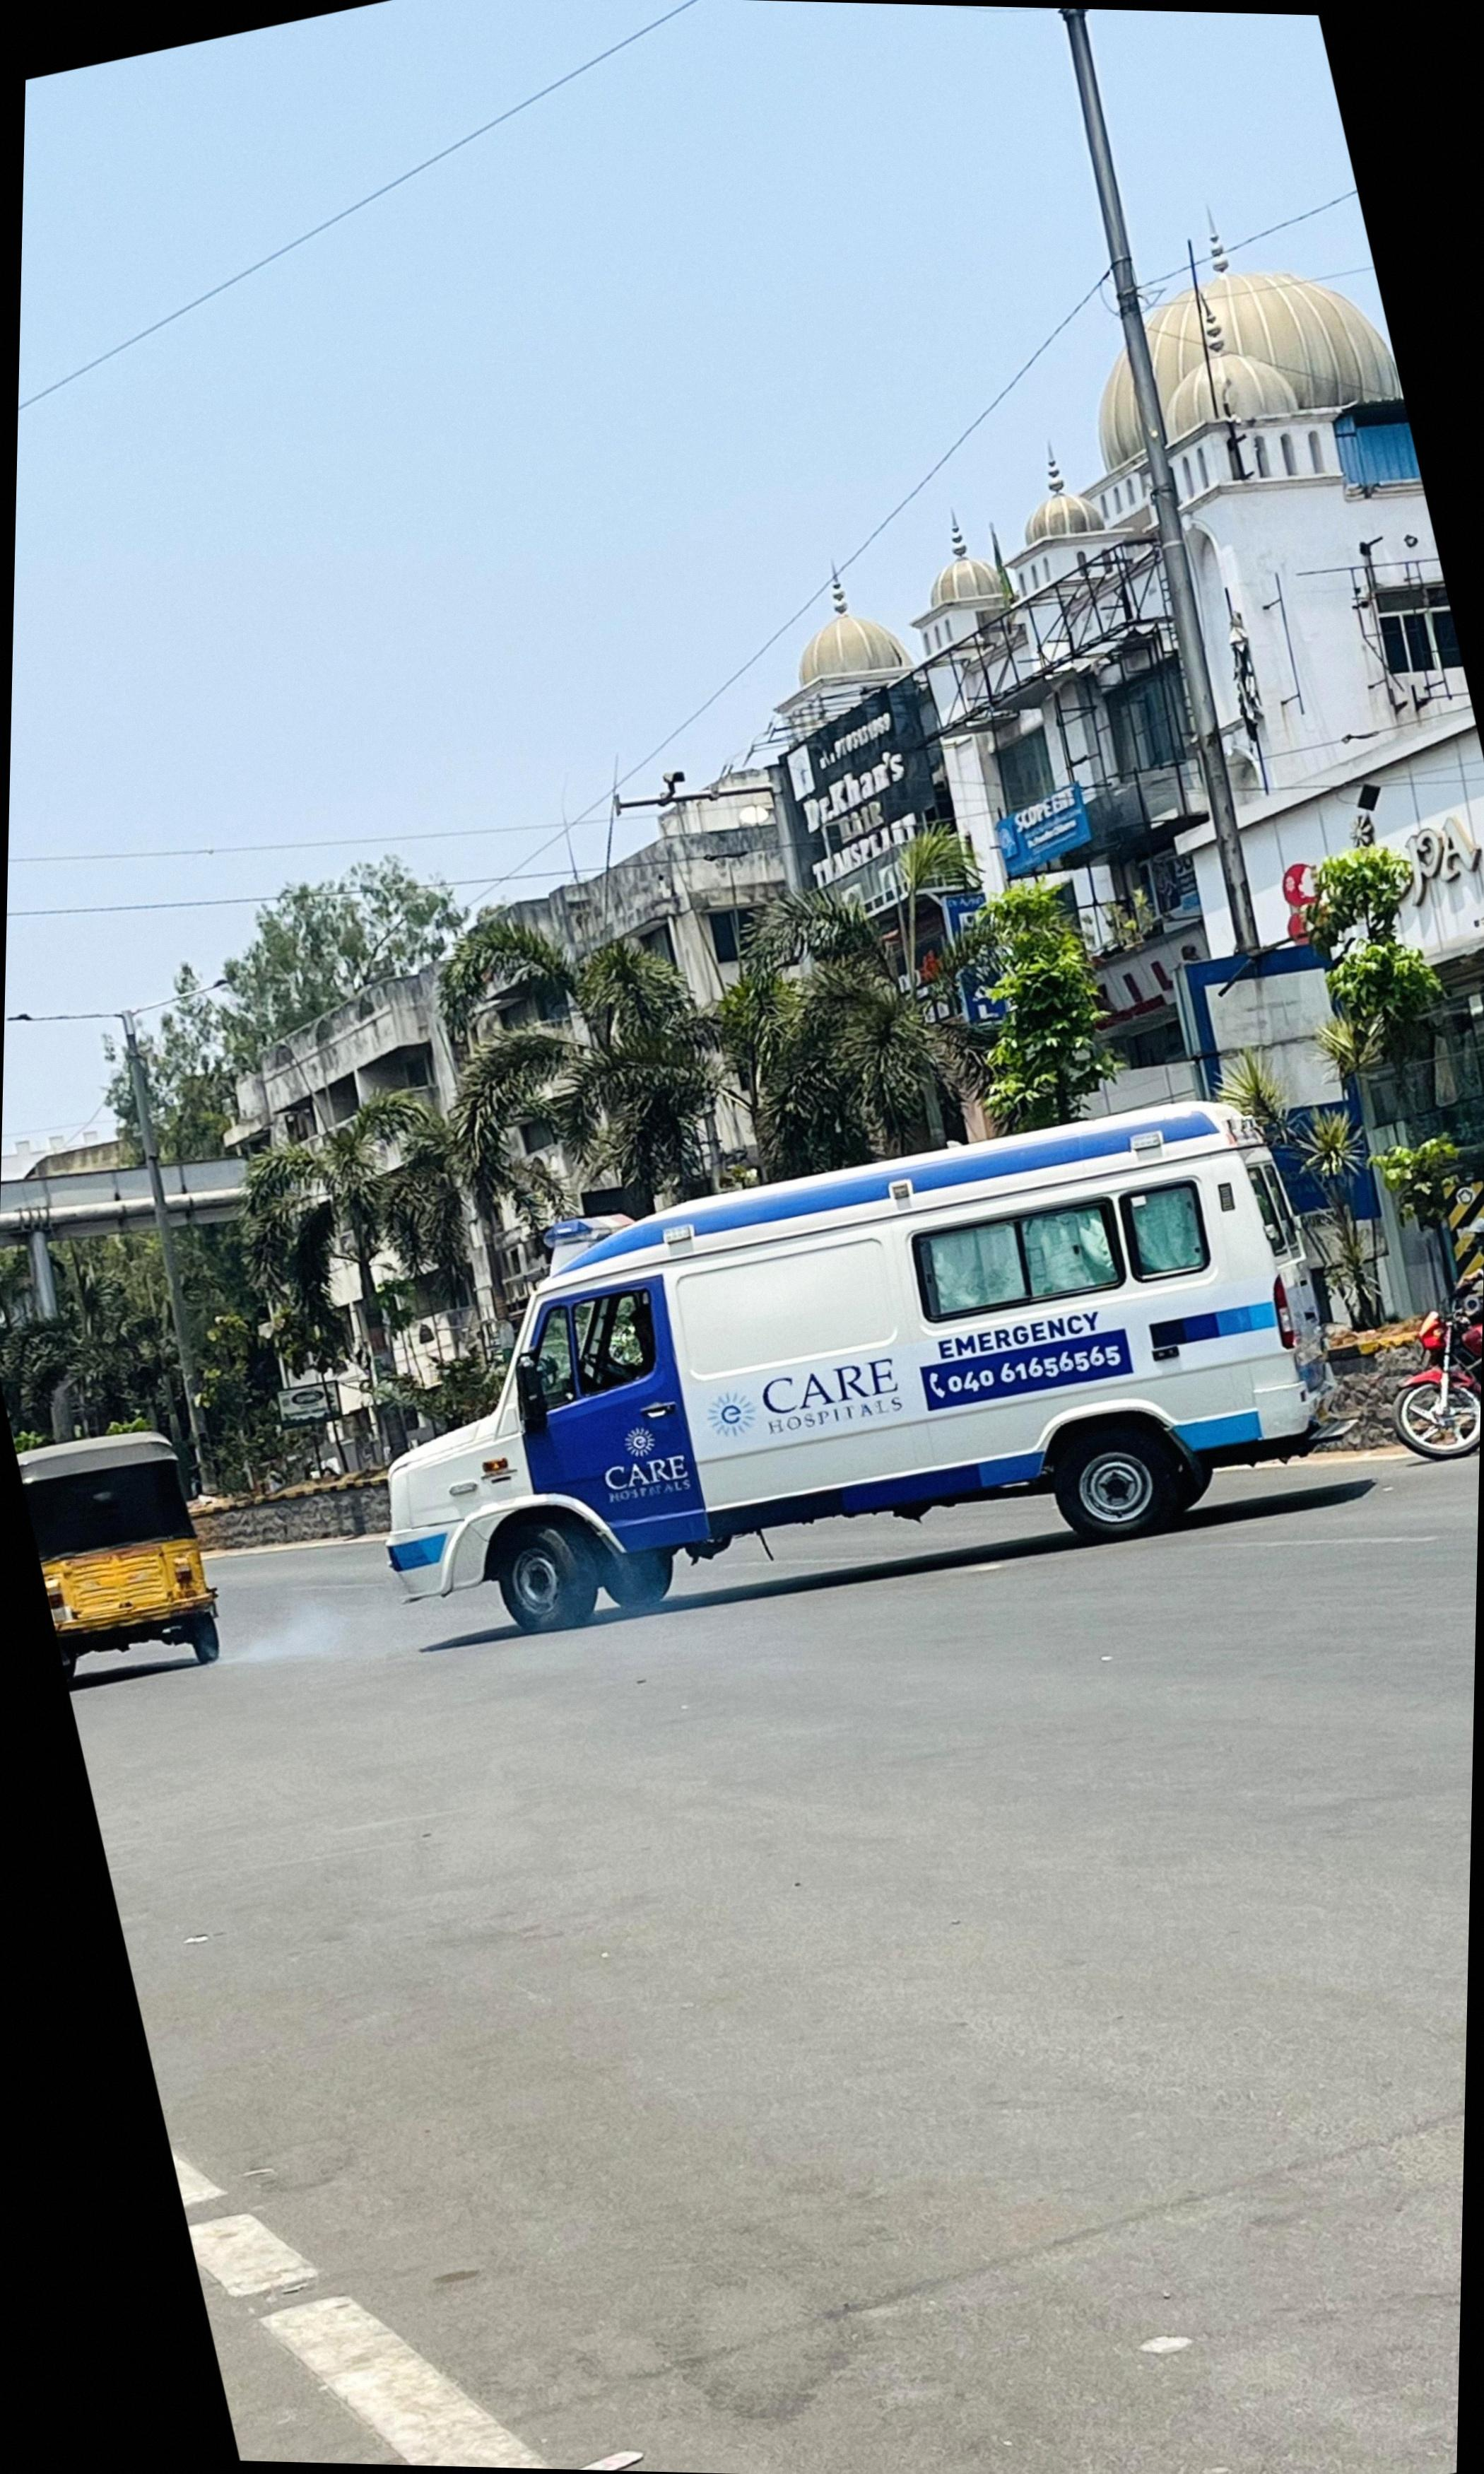ambulance: (394, 1103, 1329, 1638)
